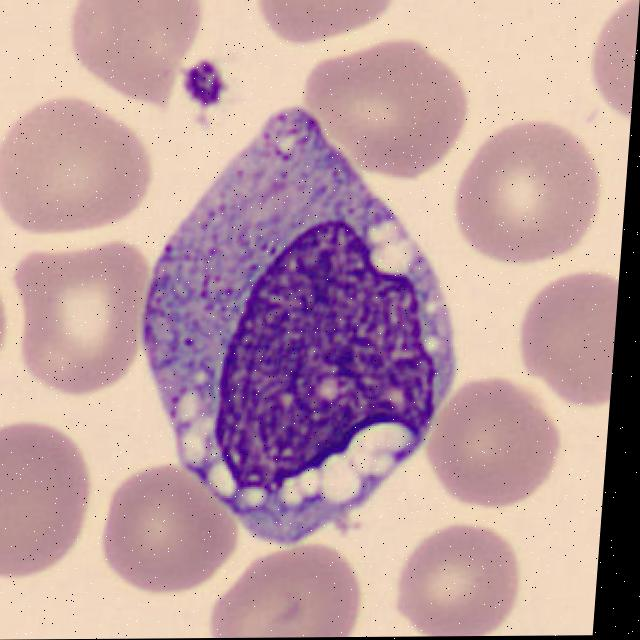monocyte: (123, 88, 479, 523)
platelets: (176, 55, 236, 120)
rbc: (3, 231, 168, 400), (427, 118, 609, 266), (0, 99, 160, 244), (303, 41, 483, 165), (0, 408, 112, 591), (415, 385, 563, 512), (92, 461, 232, 589), (44, 0, 207, 105), (388, 521, 532, 637), (203, 539, 368, 638), (511, 272, 619, 409), (574, 0, 640, 150), (254, 0, 410, 47)
